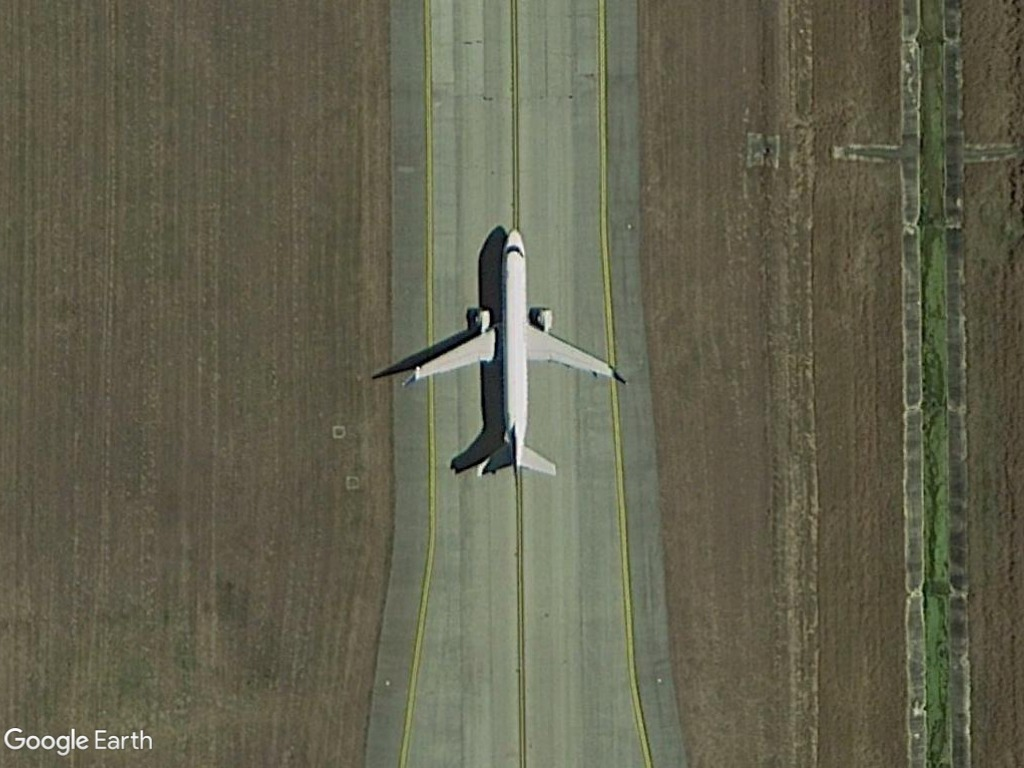airliner: (395, 222, 633, 487)
